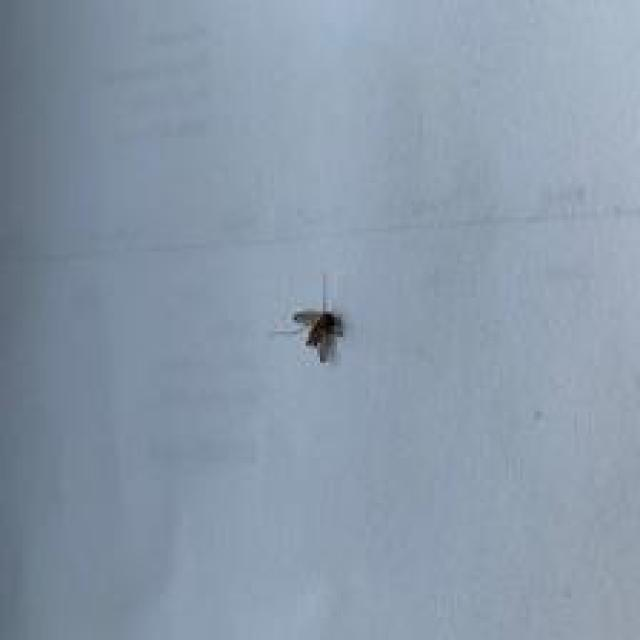Culex: (271, 273, 346, 364)
